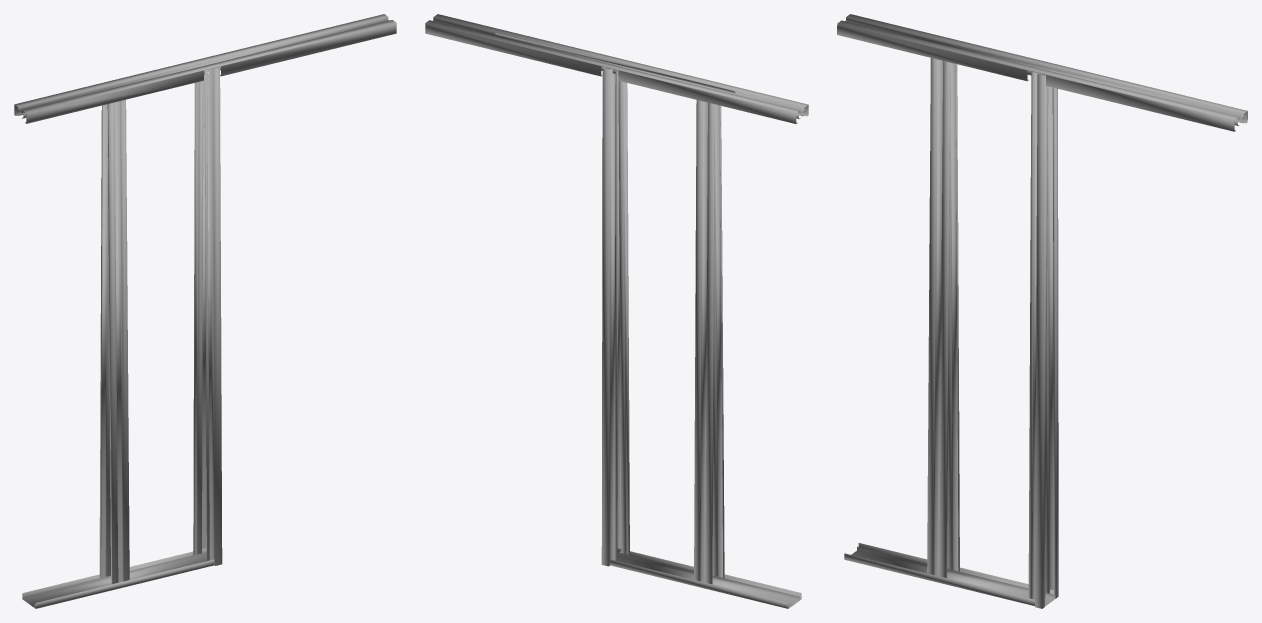
Rendered from metal-2.glb.
3 views of the same model, side by side, from view 1: azimuth 30°, elevation 25°; view 2: azimuth 150°, elevation 25°; view 3: azimuth 330°, elevation 25° (orthographic). The views are drawn at different scales.
Parts seen in each view (by area): view 1: Assem1 - green frame.stp-1, Assem1 - top frame.stp-1, Assem1 - white frame.step-2, Assem1 - white frame.step-1, Assem1 - green frame.stp-2, Assem1 - bottom frame 1-1; view 2: Assem1 - green frame.stp-2, Assem1 - top frame.stp-1, Assem1 - white frame.step-1, Assem1 - white frame.step-2, Assem1 - green frame.stp-1, Assem1 - bottom frame 1-1; view 3: Assem1 - green frame.stp-1, Assem1 - top frame.stp-1, Assem1 - white frame.step-2, Assem1 - white frame.step-1, Assem1 - green frame.stp-2, Assem1 - bottom frame 1-1.
Part boxes in pixels (x1,y1,x2,y2): Assem1 - green frame.stp-1: [107, 99, 129, 584]; Assem1 - top frame.stp-1: [14, 14, 396, 123]; Assem1 - white frame.step-2: [204, 67, 222, 565]; Assem1 - white frame.step-1: [193, 74, 206, 555]; Assem1 - green frame.stp-2: [99, 104, 110, 577]; Assem1 - bottom frame 1-1: [22, 548, 214, 608]; Assem1 - green frame.stp-2: [694, 100, 714, 584]; Assem1 - top frame.stp-1: [425, 14, 808, 123]; Assem1 - white frame.step-1: [601, 67, 618, 566]; Assem1 - white frame.step-2: [617, 75, 629, 554]; Assem1 - green frame.stp-1: [712, 104, 724, 578]; Assem1 - bottom frame 1-1: [610, 548, 801, 608]; Assem1 - green frame.stp-1: [927, 58, 950, 577]; Assem1 - top frame.stp-1: [837, 14, 1247, 131]; Assem1 - white frame.step-2: [1028, 71, 1048, 608]; Assem1 - white frame.step-1: [1045, 86, 1058, 598]; Assem1 - green frame.stp-2: [947, 62, 959, 571]; Assem1 - bottom frame 1-1: [844, 543, 1055, 606].
Size of the model in its own units: 3.35 by 4.3 by 0.2499.
Materials: 3 (1 with a texture image).
